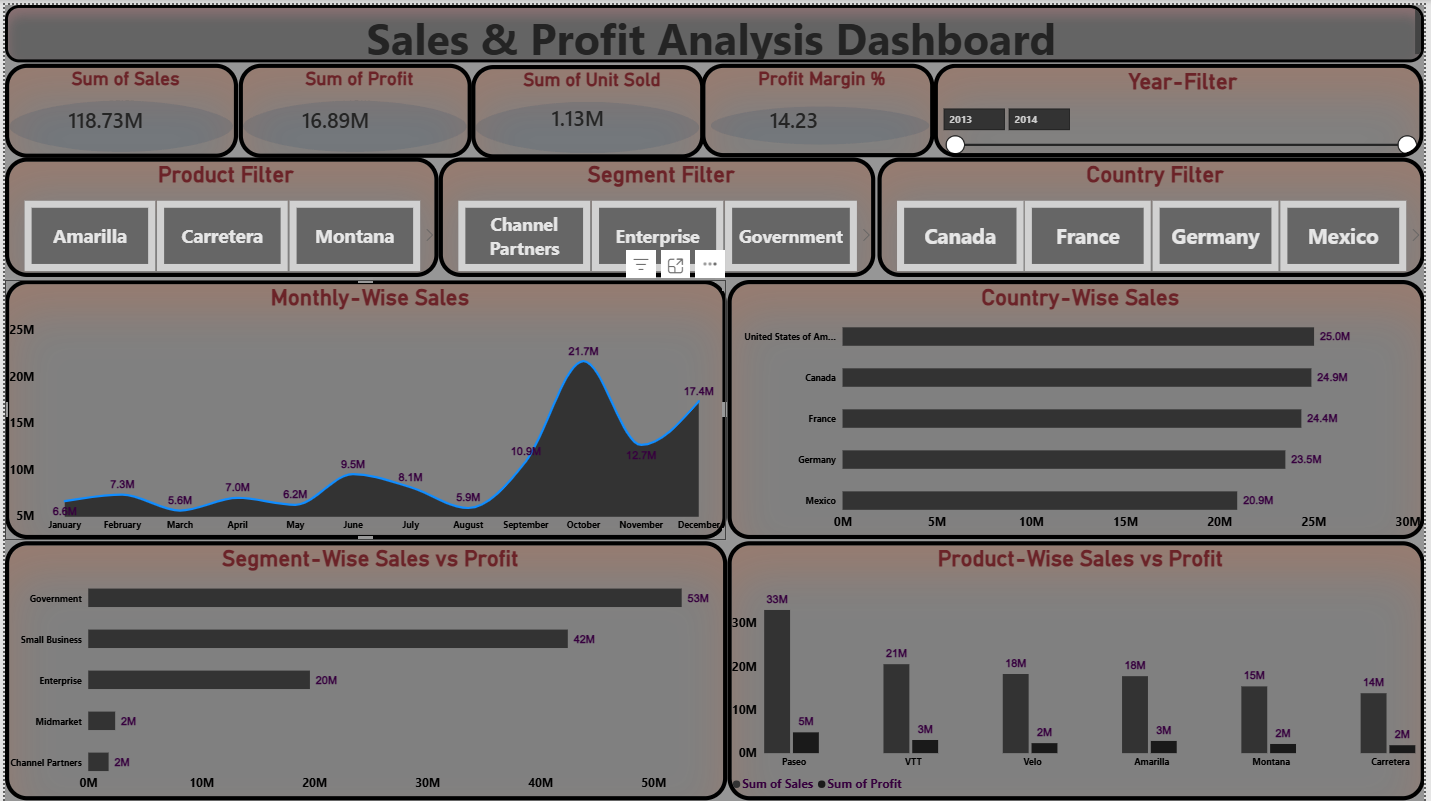

The page's visual inventory and layout, read from the dashboard file:
{"tool":"powerbi","page":{"name":"Page 1","canvas":[1920,1080],"ordinal":0},"visuals":[{"type":"cardVisual","title":"Sum of Sales","fields":{"Data":["Sum(cleaned_data.Sales)"]},"box":[0,80.1,315,126.9],"z":0},{"type":"cardVisual","title":"Sum of Profit","fields":{"Data":["Sum(cleaned_data.Profit)"]},"box":[316,80,315,126.9],"z":1000},{"type":"cardVisual","title":"Sum of Unit Sold","fields":{"Data":["Sum(cleaned_data.Units Sold)"]},"box":[631,81.8,315,126],"z":2000},{"type":"cardVisual","title":"Profit Margin %","fields":{"Data":["cleaned_data.Profit Margin %"]},"box":[941,80.1,315,126],"z":3000},{"type":"lineChart","title":"Monthly-Wise Sales","fields":{"Category":["cleaned_data.Date.Variation.Date Hierarchy.Month"],"Y":["Sum(cleaned_data.Sales)"]},"box":[0,372.4,976,350.7],"z":4000},{"type":"clusteredBarChart","title":"Country-Wise Sales","fields":{"Y":["Sum(cleaned_data.Sales)"],"Category":["cleaned_data.Country"]},"box":[976.8,372,943.4,350],"z":5000},{"type":"clusteredColumnChart","title":"Product-Wise Sales vs Profit","fields":{"Category":["cleaned_data.Product"],"Y":["Sum(cleaned_data.Sales)","Sum(cleaned_data.Profit)"]},"box":[976.8,726,943.4,350],"z":6000},{"type":"clusteredBarChart","title":"Segment-Wise Sales vs Profit","fields":{"Y":["Sum(cleaned_data.Sales)"],"Category":["cleaned_data.Segment"]},"box":[0,726,976.8,350],"z":7000},{"type":"slicer","title":"Year-Filter","fields":{"Values":["cleaned_data.Year"]},"box":[1257,79,662,126],"z":8000},{"type":"slicer","title":"Country Filter","fields":{"Values":["cleaned_data.Country"]},"box":[1180.5,207,739.7,162],"z":9000},{"type":"slicer","title":"Product Filter","fields":{"Values":["cleaned_data.Product"]},"box":[0,207,586.1,162],"z":10000},{"type":"slicer","title":"Segment Filter ","fields":{"Values":["cleaned_data.Segment"]},"box":[587,207,590,162],"z":11000},{"type":"textbox","box":[0,0,1918.9,77.8],"z":11001}]}

Visuals, with their boxes in screenshot pixels (x1, y1, x2, y2), scaled from the page's 1920x1080 canvas onto the 1431x801 screenshot:
"Sum of Sales" cardVisual: box=[0, 59, 235, 154]
"Sum of Profit" cardVisual: box=[236, 59, 470, 153]
"Sum of Unit Sold" cardVisual: box=[470, 61, 705, 154]
"Profit Margin %" cardVisual: box=[701, 59, 936, 153]
"Monthly-Wise Sales" lineChart: box=[0, 276, 727, 536]
"Country-Wise Sales" clusteredBarChart: box=[728, 276, 1430, 535]
"Product-Wise Sales vs Profit" clusteredColumnChart: box=[728, 538, 1430, 798]
"Segment-Wise Sales vs Profit" clusteredBarChart: box=[0, 538, 728, 798]
"Year-Filter" slicer: box=[937, 59, 1430, 152]
"Country Filter" slicer: box=[880, 154, 1430, 274]
"Product Filter" slicer: box=[0, 154, 437, 274]
"Segment Filter " slicer: box=[437, 154, 877, 274]
textbox: box=[0, 0, 1430, 58]
